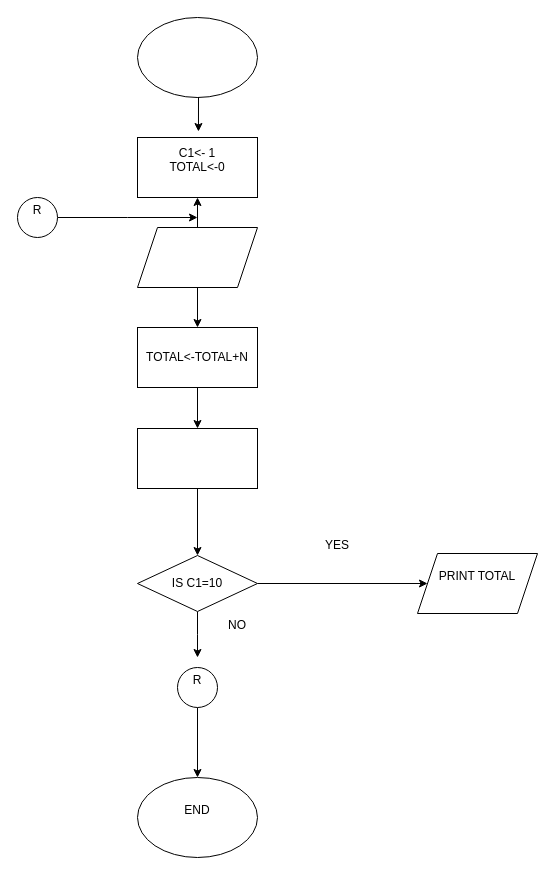
Some shapes in this 555 by 875 pixel diagram are drawn without their labels. Each missing label, with the centre of its shape:
"C1<-C1+1" belongs at (197,458).
"INPUT N1" belongs at (197,257).
"START" belongs at (197,57).
